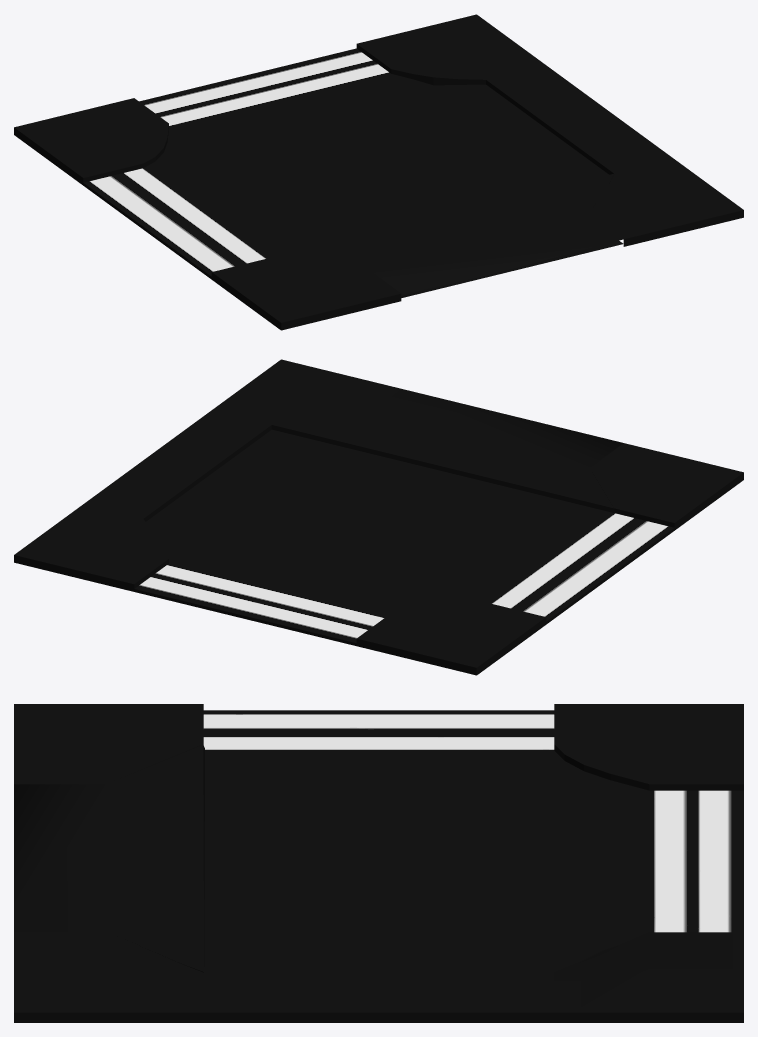
File: road3.FBX
3 views of the same model, one above another, from view 1: azimuth 30°, elevation 25°; view 2: azimuth 150°, elevation 25°; view 3: azimuth 270°, elevation 25° (orthographic). The views are drawn at different scales.
Parts seen in each view (by area): view 1: Box001; view 2: Box001; view 3: Box001.
Boxes of the visible parts, x1,y1,x2,y2 form: Box001: [14, 14, 743, 330]; Box001: [14, 359, 743, 675]; Box001: [14, 704, 743, 1022].
Size of the model in its own units: 49 by 0.9786 by 49.
